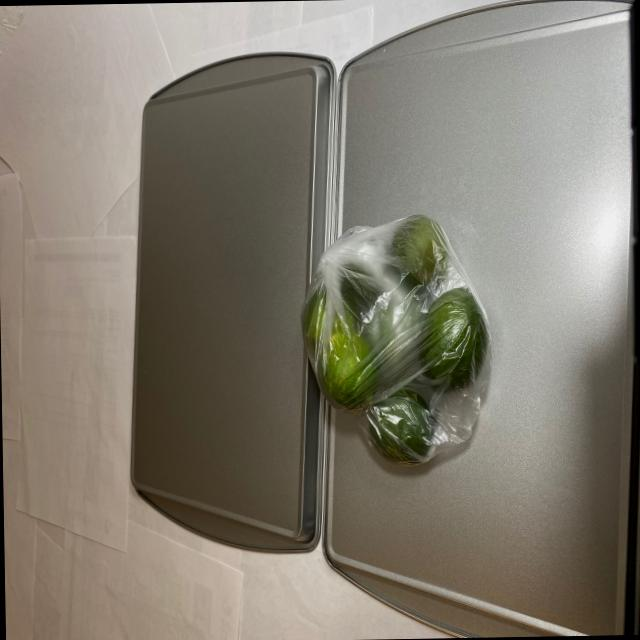lemon: (298, 216, 491, 471)
